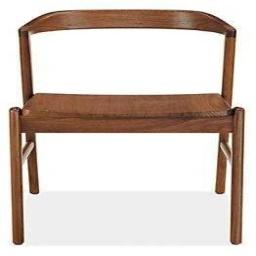Chair: (10, 10, 245, 244)
